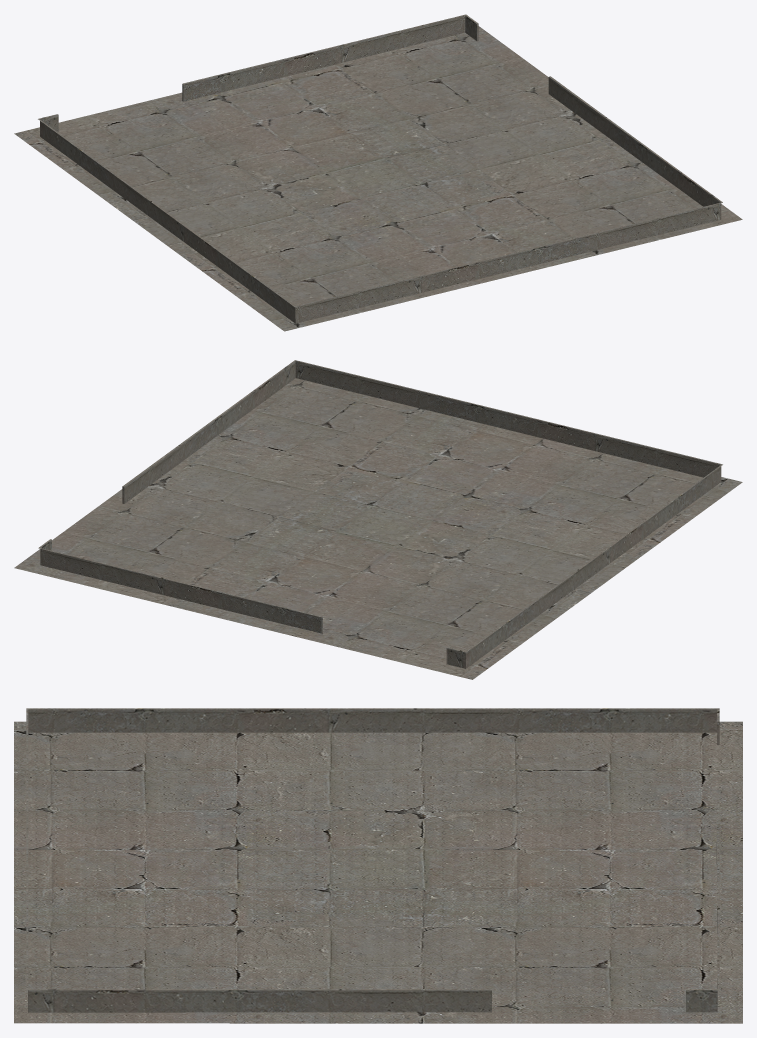
Rendered from RoofArea01_Floor.FBX.
3 views of the same model, one above another, from view 1: azimuth 30°, elevation 25°; view 2: azimuth 150°, elevation 25°; view 3: azimuth 270°, elevation 25° (orthographic). The views are drawn at different scales.
Visible parts, largest first — view 1: RoofArea01_Floor; view 2: RoofArea01_Floor; view 3: RoofArea01_Floor.
Part boxes in pixels (x1=…): RoofArea01_Floor: x1=14, y1=14, x2=742, y2=331; RoofArea01_Floor: x1=14, y1=360, x2=742, y2=679; RoofArea01_Floor: x1=14, y1=708, x2=742, y2=1023.
Size of the model in its own units: 461 by 18.43 by 470.
